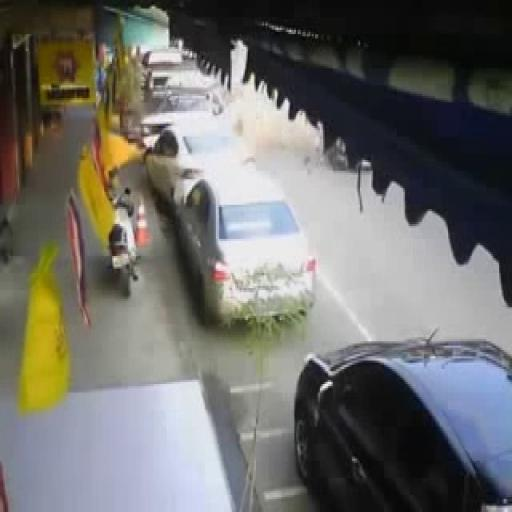Car: (305, 332, 512, 512), (188, 180, 306, 317), (146, 130, 246, 191), (143, 87, 228, 141), (102, 192, 141, 288), (137, 47, 185, 82)
Minor Accident: (142, 85, 242, 193)
